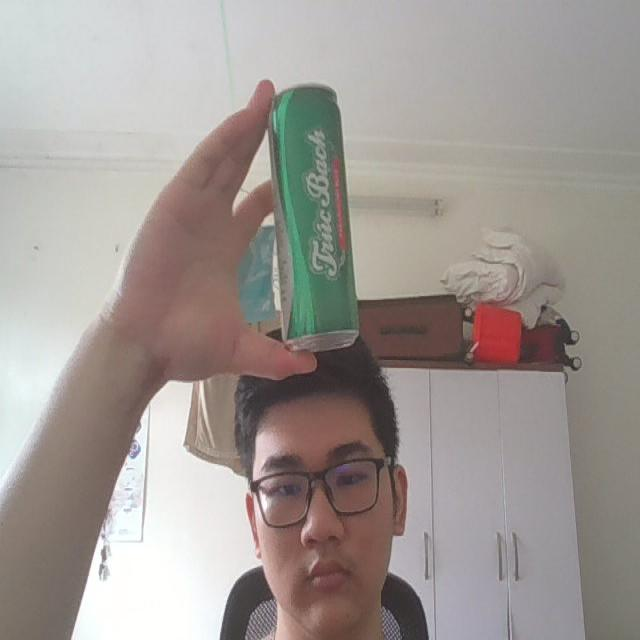Bia-Truc-Bach: (264, 81, 362, 352)
